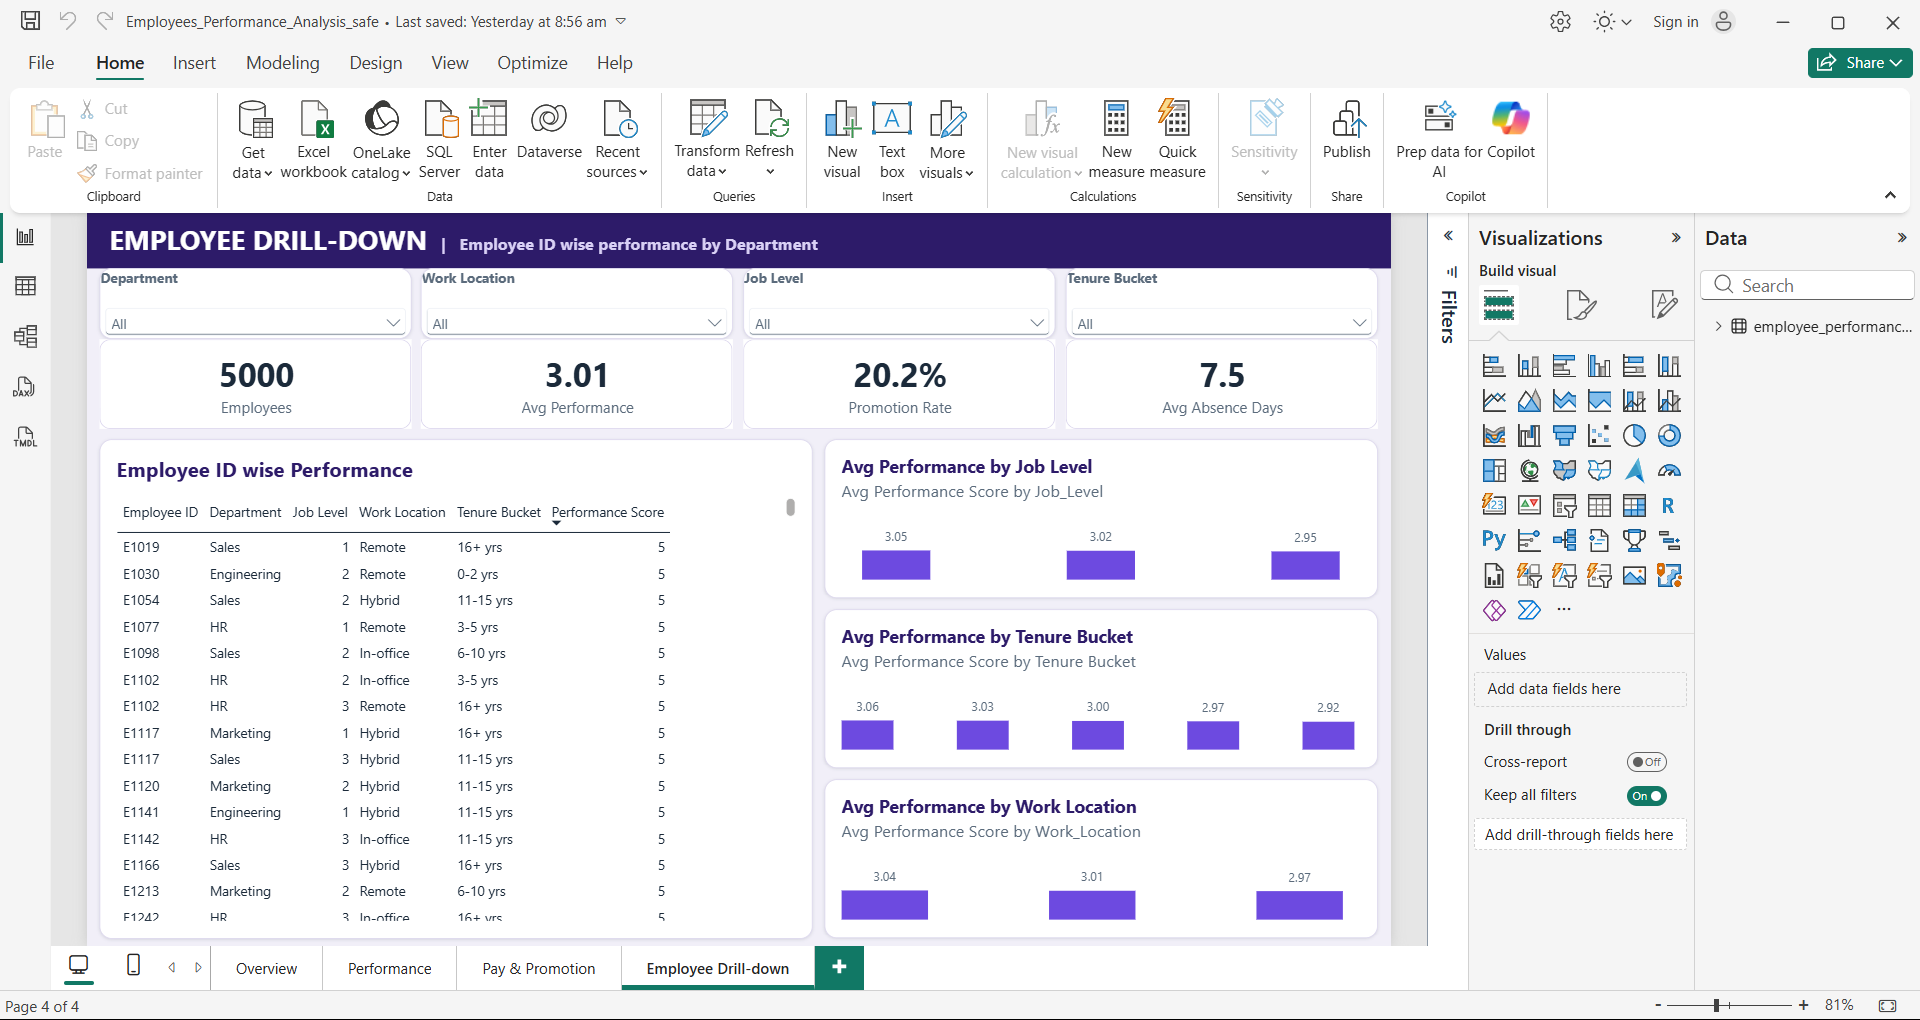

What the dashboard file says about the page in this screenshot:
{"tool":"powerbi","page":{"name":"Employee Drill-down","canvas":[1280,720],"ordinal":3},"visuals":[{"type":"textbox","box":[0,0,1280,54],"z":1000},{"type":"slicer","title":"Department","fields":{"Values":["employee_performance_dataset.Department"]},"box":[12,54,306.8,69.9],"z":1200},{"type":"slicer","title":"Work Location","fields":{"Values":["employee_performance_dataset.Work_Location"]},"box":[327.5,54,306.8,69.9],"z":1300},{"type":"slicer","title":"Job Level","fields":{"Values":["employee_performance_dataset.Job_Level"]},"box":[644,54,306.8,69.9],"z":1400},{"type":"slicer","title":"Tenure Bucket","fields":{"Values":["employee_performance_dataset.Tenure Bucket"]},"box":[961,54,306.8,69.9],"z":1500},{"type":"cardVisual","fields":{"Data":["employee_performance_dataset.Total Employees"]},"box":[12,124,306.5,88],"z":1600},{"type":"cardVisual","fields":{"Data":["employee_performance_dataset.Avg Performance Score"]},"box":[327.5,124,306.5,88],"z":1700},{"type":"cardVisual","fields":{"Data":["employee_performance_dataset.Promotion Rate"]},"box":[644,124,306.5,88],"z":1800},{"type":"cardVisual","fields":{"Data":["employee_performance_dataset.Average Absence Days"]},"box":[961,124,306.5,88],"z":1900},{"type":"columnChart","title":"Avg Performance by Job Level","fields":{"Category":["employee_performance_dataset.Job_Level"],"Y":["employee_performance_dataset.Avg Performance Score"]},"box":[724,222,543,156],"z":2000},{"type":"columnChart","title":"Avg Performance by Tenure Bucket","fields":{"Category":["employee_performance_dataset.Tenure Bucket"],"Y":["employee_performance_dataset.Avg Performance Score"]},"box":[724,389,543,156],"z":2100},{"type":"columnChart","title":"Avg Performance by Work Location","fields":{"Category":["employee_performance_dataset.Work_Location"],"Y":["employee_performance_dataset.Avg Performance Score"]},"box":[724,556,543,156],"z":2200},{"type":"tableEx","title":"Employee ID wise Performance","fields":{"Values":["employee_performance_dataset.Employee_ID","employee_performance_dataset.Department","employee_performance_dataset.Job_Level","employee_performance_dataset.Work_Location","employee_performance_dataset.Tenure Bucket","employee_performance_dataset.Performance_Score"]},"box":[12,222,700,490],"z":2300}]}

Visuals, with their boxes on the page's 1280x720 design canvas (x1, y1, x2, y2). These are canvas units, not pixel positions in the 1920x1020 screenshot, which may show the page scaled, cropped or inside an application window:
textbox: x1=0 y1=0 x2=1280 y2=54
"Department" slicer: x1=12 y1=54 x2=319 y2=124
"Work Location" slicer: x1=328 y1=54 x2=634 y2=124
"Job Level" slicer: x1=644 y1=54 x2=951 y2=124
"Tenure Bucket" slicer: x1=961 y1=54 x2=1268 y2=124
cardVisual - employee_performance_dataset.Total Employees: x1=12 y1=124 x2=318 y2=212
cardVisual - employee_performance_dataset.Avg Performance Score: x1=328 y1=124 x2=634 y2=212
cardVisual - employee_performance_dataset.Promotion Rate: x1=644 y1=124 x2=950 y2=212
cardVisual - employee_performance_dataset.Average Absence Days: x1=961 y1=124 x2=1268 y2=212
"Avg Performance by Job Level" columnChart: x1=724 y1=222 x2=1267 y2=378
"Avg Performance by Tenure Bucket" columnChart: x1=724 y1=389 x2=1267 y2=545
"Avg Performance by Work Location" columnChart: x1=724 y1=556 x2=1267 y2=712
"Employee ID wise Performance" tableEx: x1=12 y1=222 x2=712 y2=712
